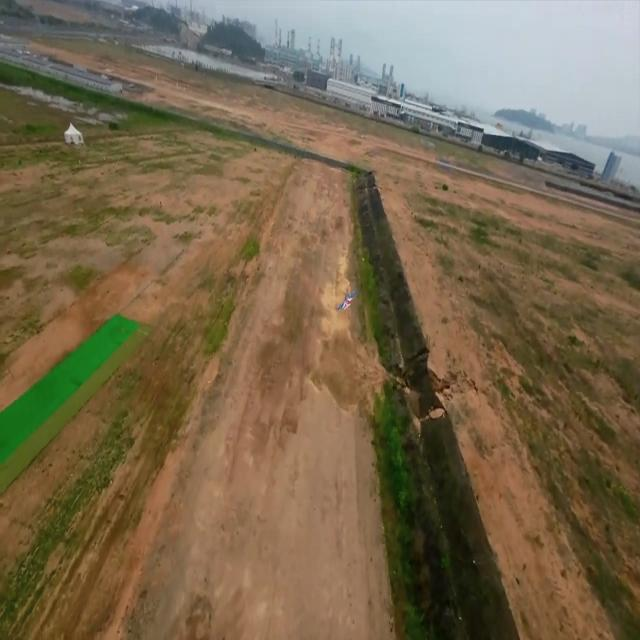iha: (322, 278, 364, 319)
